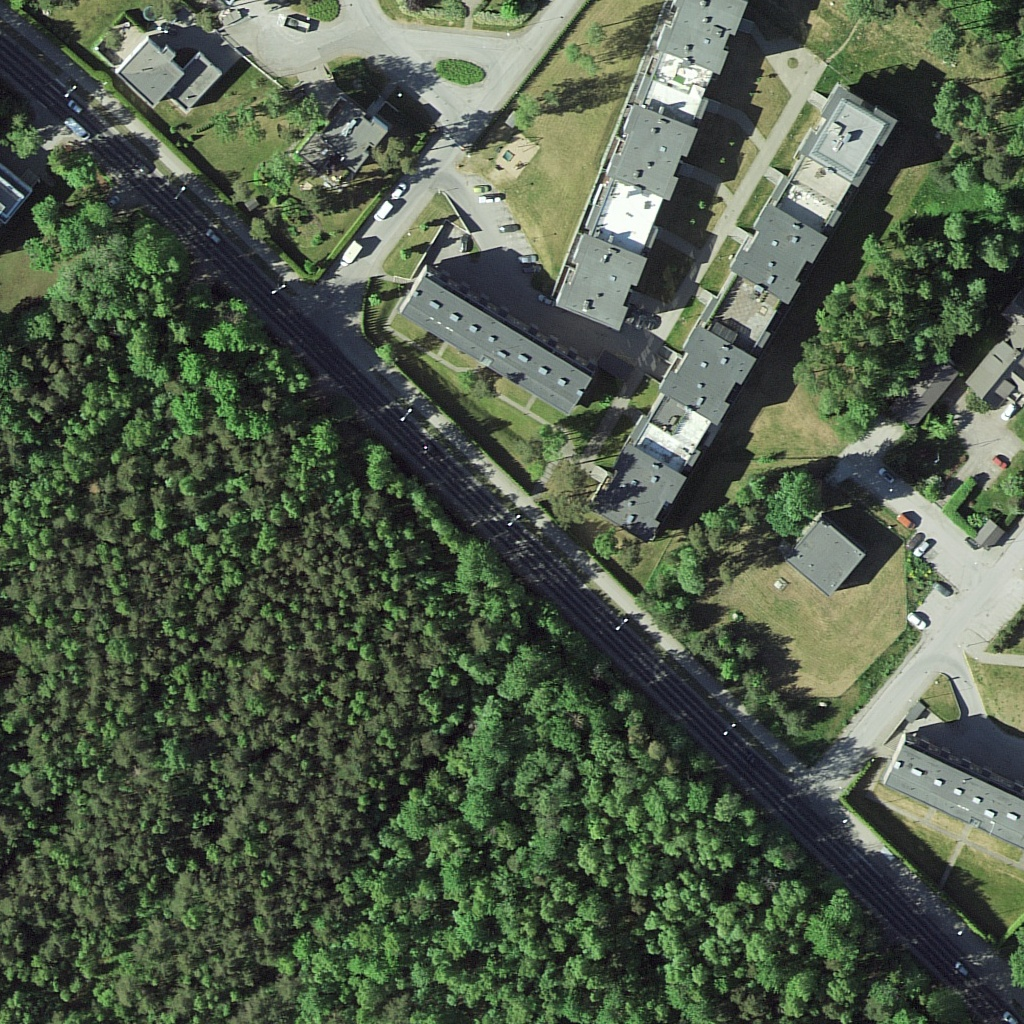building: (391, 263, 596, 411), (877, 735, 1024, 843), (795, 82, 896, 190), (729, 204, 831, 309), (547, 233, 661, 325), (658, 324, 760, 425), (597, 102, 696, 202), (596, 444, 687, 543), (650, 1, 747, 79), (781, 515, 863, 593), (104, 32, 191, 103), (971, 317, 1024, 411)
